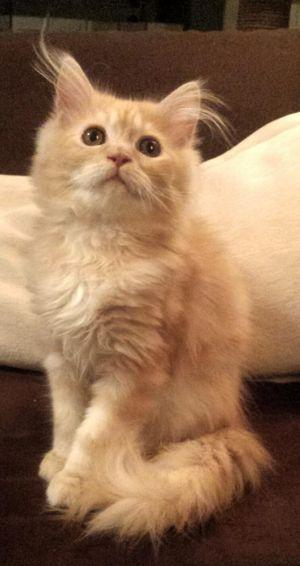persian: (23, 41, 214, 246)
